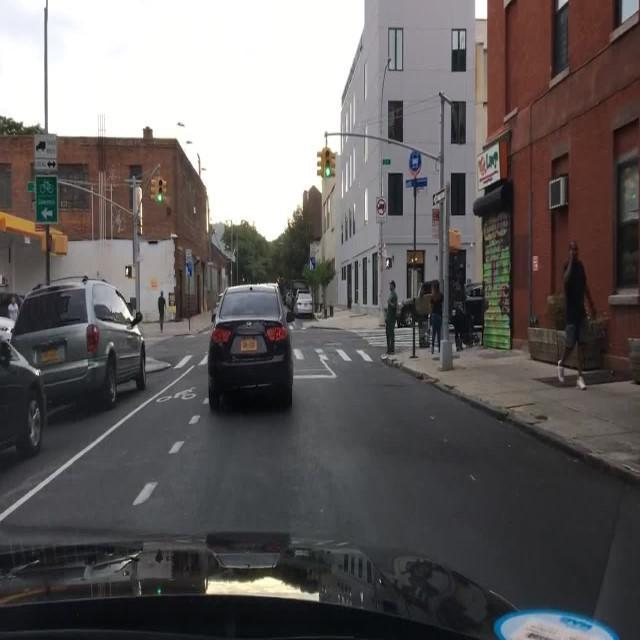normal: (0, 259, 151, 476), (196, 250, 320, 441)
